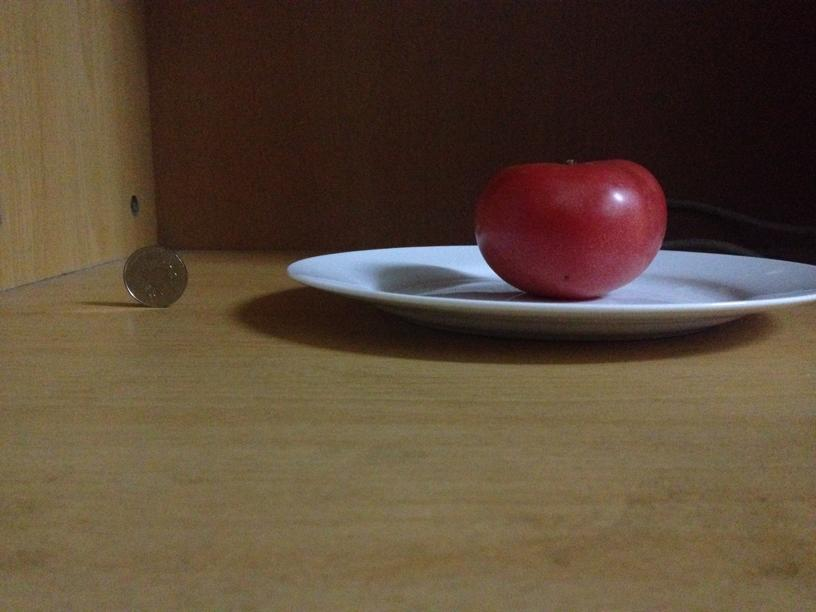coin: (124, 243, 186, 308)
tomato: (468, 160, 668, 300)
